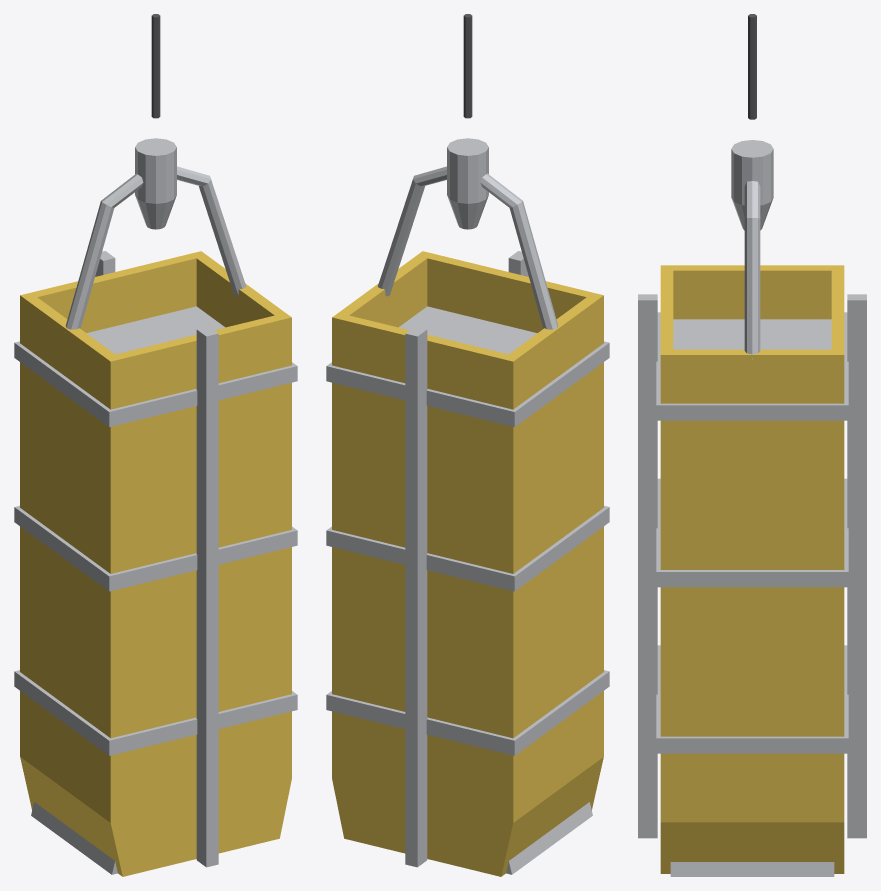
File: underground-mine-and-shaft-works-ore-skip-e961f4cf.glb
The picture shows the model from 3 angles, left to right: view 1: azimuth 30°, elevation 25°; view 2: azimuth 150°, elevation 25°; view 3: azimuth 270°, elevation 25°; orthographic projection.
Parts seen in each view (by area): view 1: ore-skip, discharge-door; view 2: ore-skip, discharge-door; view 3: ore-skip, discharge-door.
Boxes of the visible parts, left/top/right/bottom form: ore-skip: left=14, top=14, right=297, bottom=876; discharge-door: left=31, top=802, right=117, bottom=874; ore-skip: left=326, top=14, right=609, bottom=876; discharge-door: left=506, top=802, right=592, bottom=874; ore-skip: left=638, top=14, right=866, bottom=873; discharge-door: left=670, top=862, right=834, bottom=876.
Bounding box in the file's own units: 1.56 × 6.4 × 1.62.
